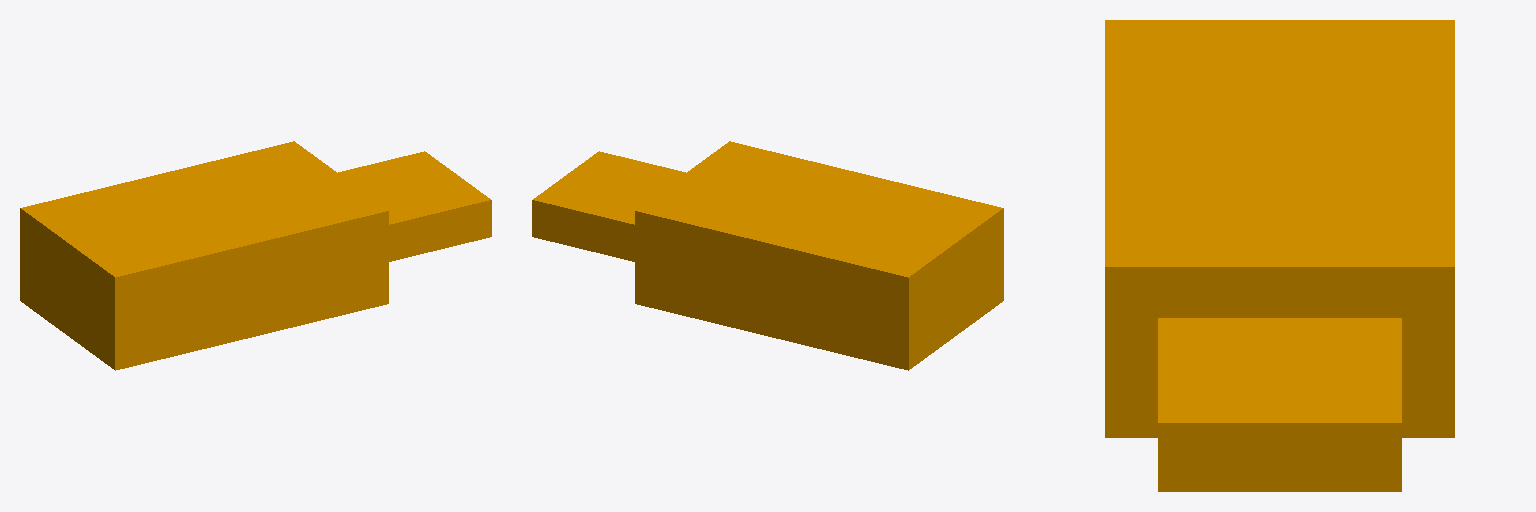
The robot description file, URDF, robot "usbc":
<?xml version="1.0"?>
<robot name="usbc">
  <link name="usbc">
    <visual><geometry><mesh filename="usbc_visual.obj"/></geometry></visual>
    <collision><geometry><mesh filename="usbc_hull.obj"/></geometry></collision>
  </link>
</robot>

--- What the picture shows (computed from the rendered views, not written in the file) ---
The picture shows the robot from 3 angles, left to right: view 1: azimuth 30°, elevation 25°; view 2: azimuth 150°, elevation 25°; view 3: azimuth 270°, elevation 25°; orthographic projection.
Model usbc with 1 links and 0 joints (none), rooted at usbc, posed all joints at 0.
Links seen in each view (by area): view 1: usbc; view 2: usbc; view 3: usbc.
Link boxes in pixels (left/top/right/bottom): usbc: left=20, top=141, right=491, bottom=370; usbc: left=532, top=141, right=1003, bottom=370; usbc: left=1105, top=20, right=1454, bottom=491.
Size in the robot's own frame: 0.0285 by 0.012 by 0.0065 metres.
1 mesh visuals loaded from 1 distinct referenced files (1 OBJ).
